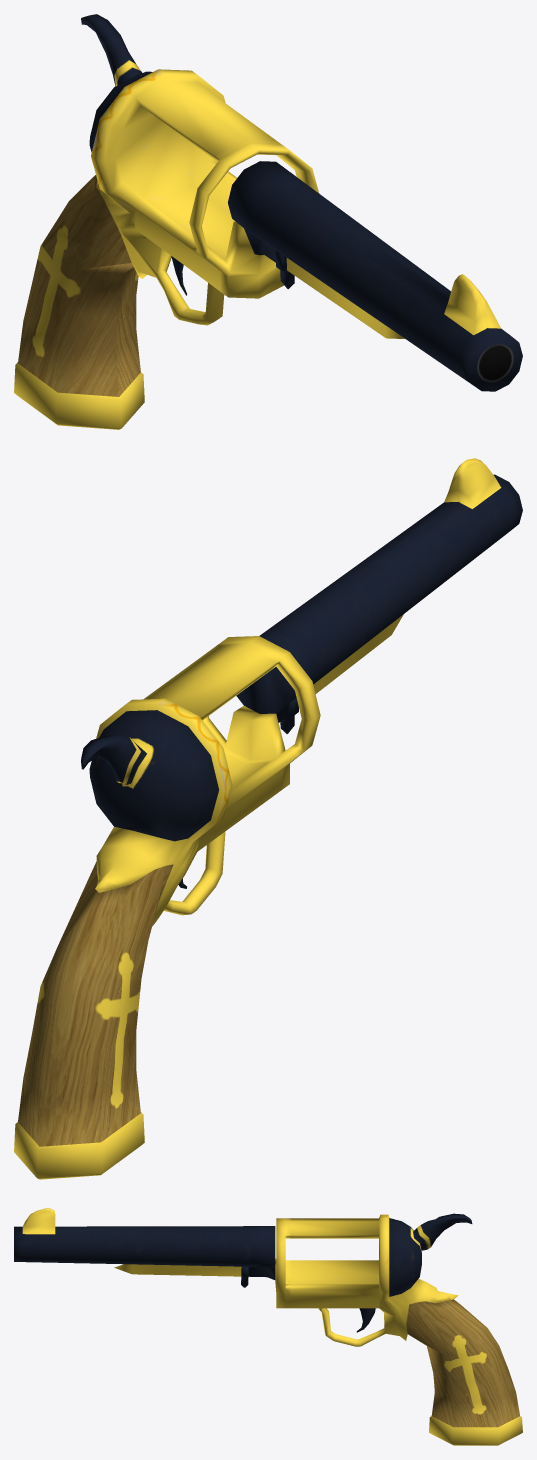
File: revo-bodytext.fbx
The picture shows the model from 3 angles, top to bottom: view 1: azimuth 30°, elevation 25°; view 2: azimuth 150°, elevation 25°; view 3: azimuth 270°, elevation 25°; orthographic projection. The views are drawn at different scales.
Visible parts, largest first — view 1: body; view 2: body; view 3: body.
Boxes of the visible parts, <box> form: body: <box>14,14,522,429</box>; body: <box>14,458,522,1179</box>; body: <box>14,1208,522,1445</box>.
Size of the model in its own units: 237 by 686 by 1397.
Materials: 1 (1 with a texture image).
